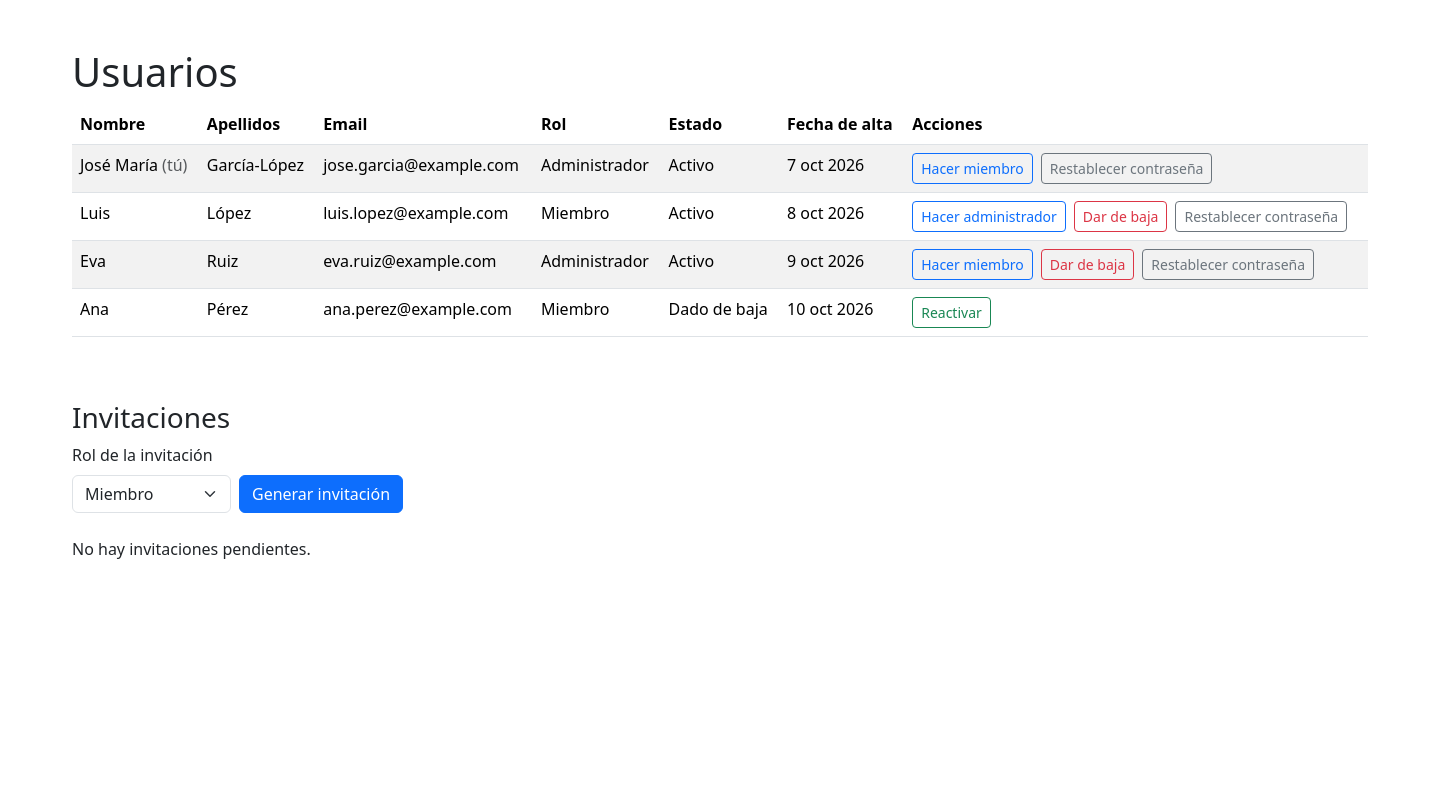
Test case: UsersPage actions › suspending › asks for confirmation naming the user before sending anything
Click the button "Dar de baja" in the row of "luis.lopez@example.com" at (1121, 216), box [1074, 201, 1168, 232]
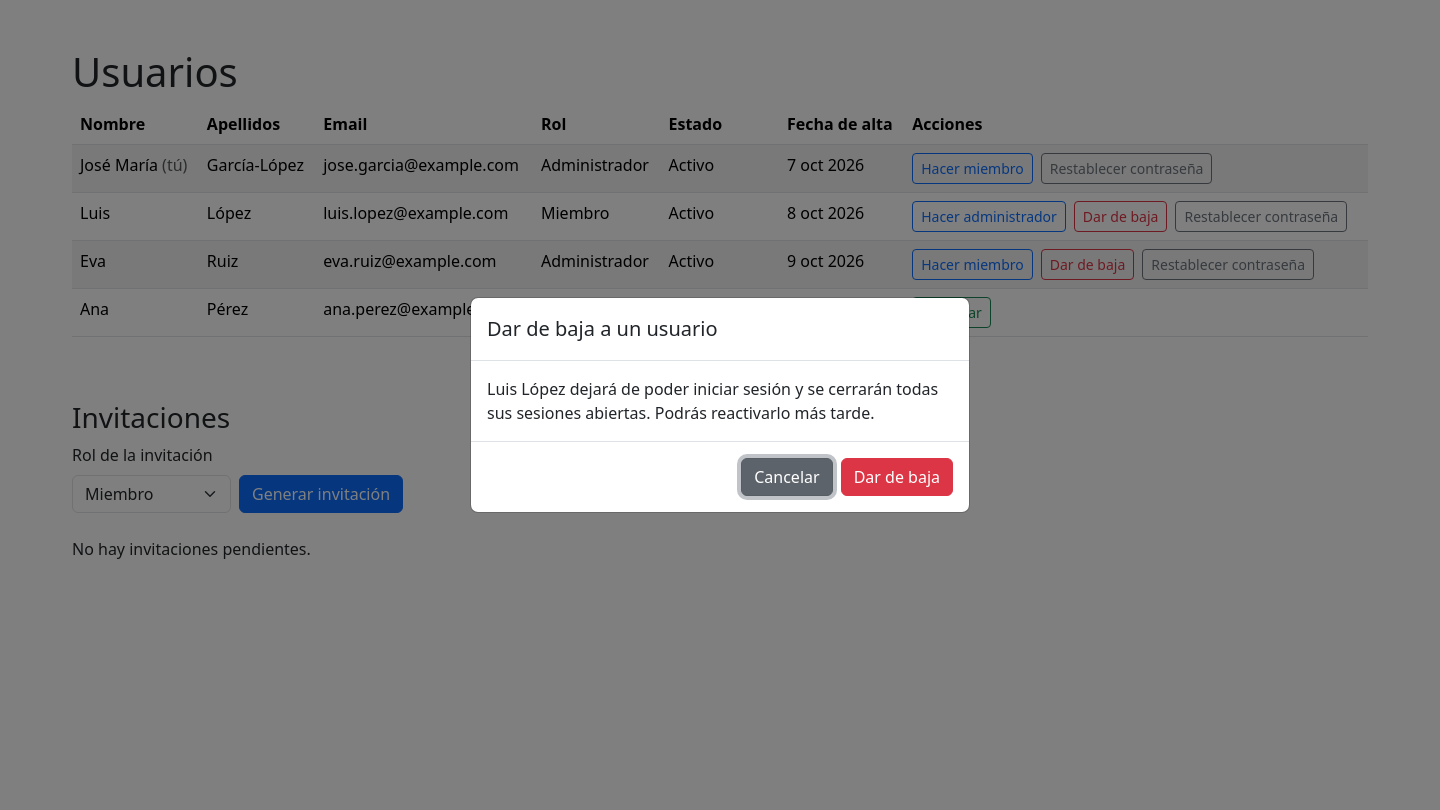
Expected: the dialog "Dar de baja a un usuario" shows "Luis López", [487, 378, 938, 424]
